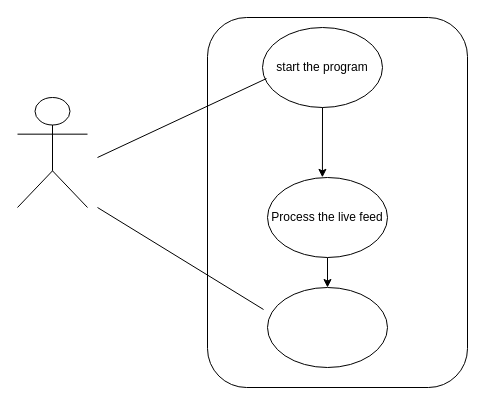
The diagram is 485 pixels wide and 405 high, and some of its shapes have lost their labels. The shapes that lost their labels are listed below. From the top down, each one's centre as x and y in pixels, then its label:
At point 52,152: "Actor".
At point 327,327: "Get results".
